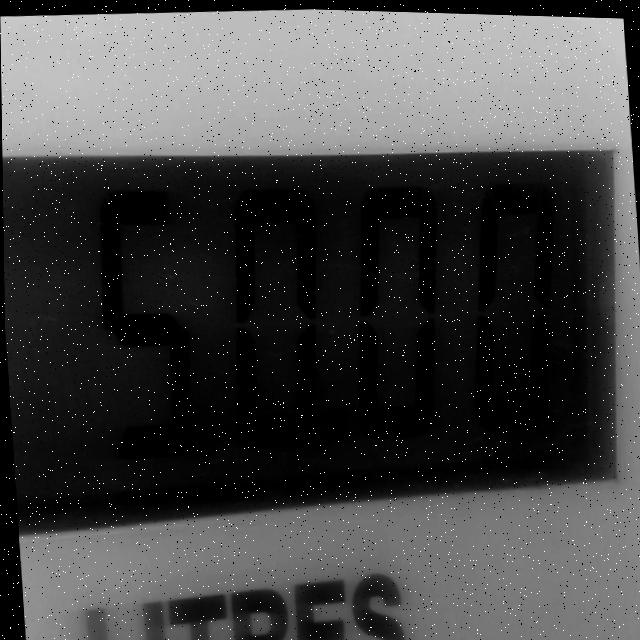.: (329, 404, 349, 435)
0: (342, 180, 451, 437), (221, 178, 326, 438), (463, 178, 560, 415)
5: (93, 185, 195, 456)
